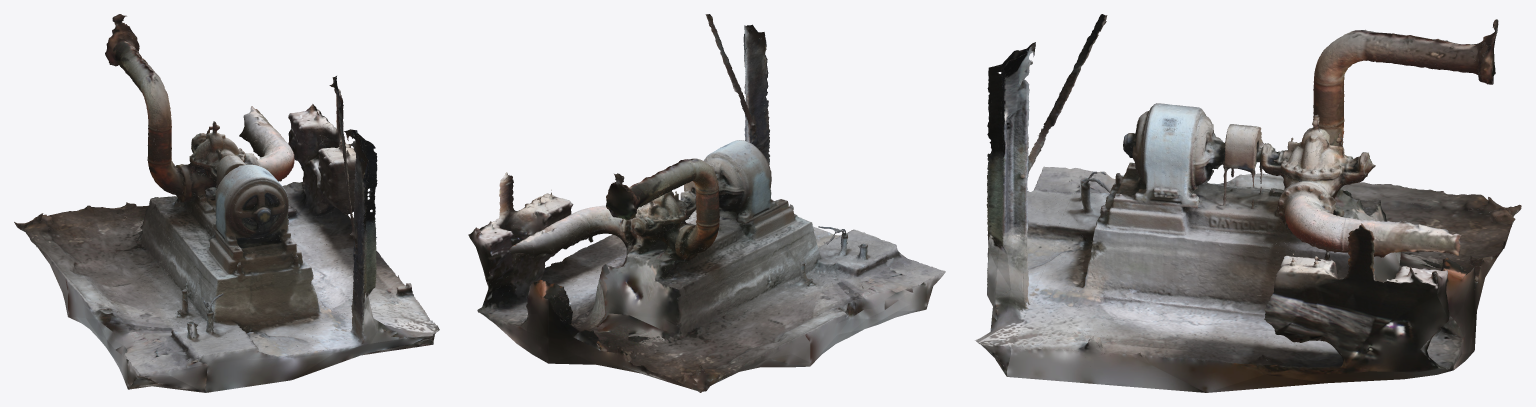
Rendered from pump.glb.
3 renders of one model, left to right at view 1: azimuth 30°, elevation 25°; view 2: azimuth 150°, elevation 25°; view 3: azimuth 270°, elevation 25°, orthographic. The views are drawn at different scales.
Parts seen in each view (by area): view 1: Object_9, Object_2, Object_8, Object_6, Object_11, Object_10, Object_5, Object_3, Object_7, Object_12, Object_4; view 2: Object_9, Object_8, Object_2, Object_11, Object_7, Object_6, Object_3, Object_4, Object_10, Object_5, Object_12; view 3: Object_11, Object_9, Object_12, Object_6, Object_7, Object_10, Object_8, Object_2, Object_4, Object_3, Object_5.
Part boxes in pixels (left/top/right/bottom): Object_9: left=14, top=35, right=437, bottom=392; Object_2: left=65, top=164, right=322, bottom=388; Object_8: left=47, top=23, right=257, bottom=283; Object_6: left=76, top=76, right=430, bottom=357; Object_11: left=65, top=76, right=428, bottom=328; Object_10: left=85, top=14, right=439, bottom=392; Object_5: left=75, top=155, right=308, bottom=355; Object_3: left=135, top=175, right=308, bottom=351; Object_7: left=58, top=60, right=407, bottom=312; Object_12: left=253, top=89, right=425, bottom=322; Object_4: left=68, top=155, right=318, bottom=332; Object_9: left=548, top=26, right=945, bottom=392; Object_8: left=603, top=158, right=808, bottom=391; Object_2: left=681, top=195, right=926, bottom=365; Object_11: left=468, top=14, right=825, bottom=348; Object_7: left=478, top=16, right=807, bottom=346; Object_6: left=494, top=14, right=919, bottom=363; Object_3: left=687, top=152, right=889, bottom=301; Object_4: left=684, top=140, right=863, bottom=331; Object_10: left=614, top=24, right=938, bottom=338; Object_5: left=680, top=142, right=913, bottom=330; Object_12: left=472, top=70, right=747, bottom=316; Object_11: left=1013, top=14, right=1475, bottom=392; Object_9: left=975, top=32, right=1521, bottom=349; Object_12: left=1031, top=95, right=1453, bottom=392; Object_6: left=1007, top=14, right=1474, bottom=383; Object_7: left=1052, top=41, right=1472, bottom=382; Object_10: left=976, top=19, right=1498, bottom=376; Object_8: left=1265, top=29, right=1497, bottom=281; Object_2: left=1037, top=119, right=1287, bottom=313; Object_4: left=1041, top=103, right=1284, bottom=282; Object_3: left=1090, top=109, right=1267, bottom=243; Object_5: left=1044, top=104, right=1284, bottom=274.
Size of the model in its own units: 14.02 by 10.23 by 15.61.
Materials: 1 (1 with a texture image).
